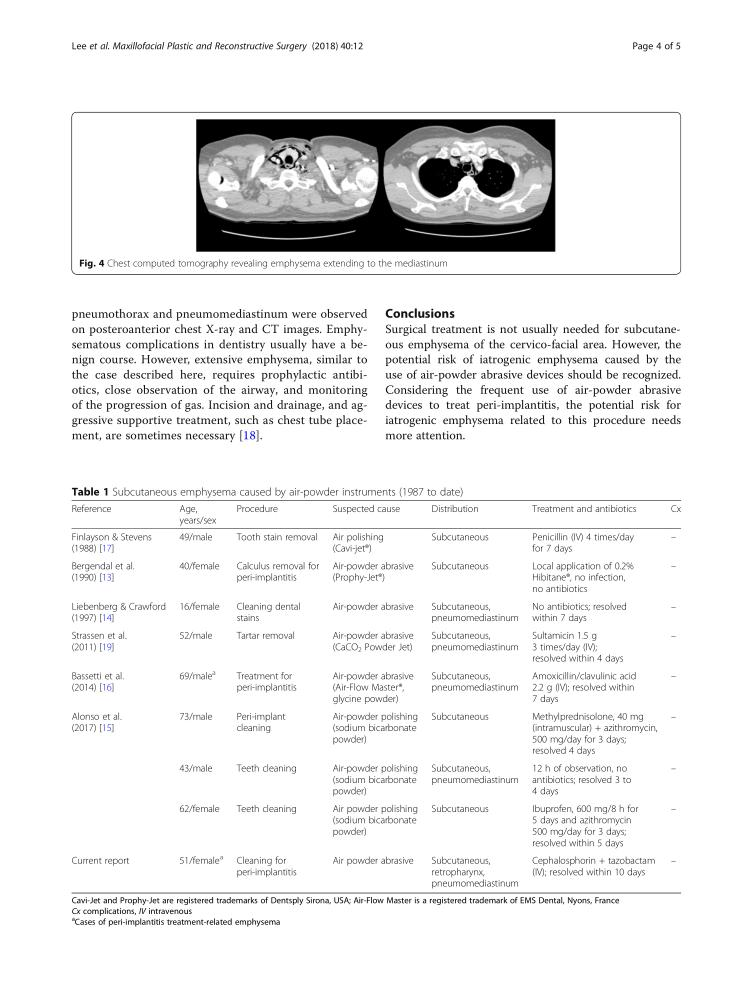table: (71, 503, 680, 889)
